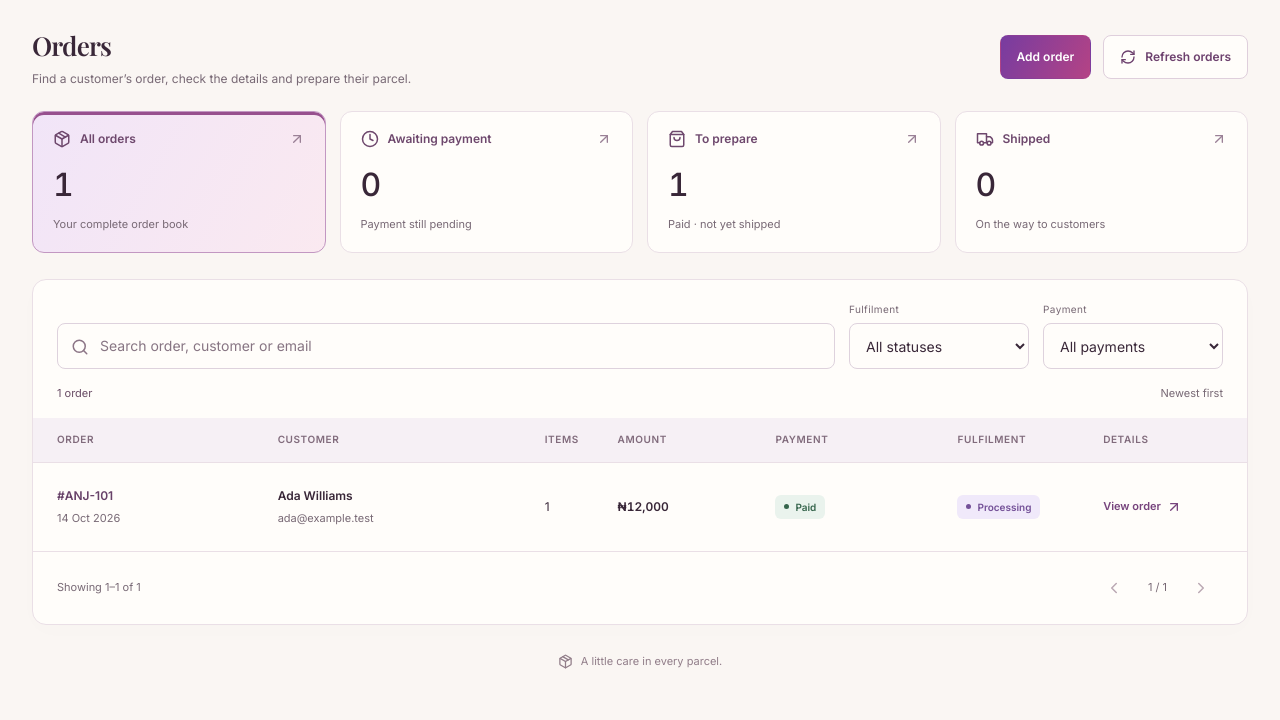
Test case: drawer traps keyboard focus, makes background inert and restores it on close
(page scrolled)
Click the button with aria-label "View order ANJ-101" at (1142, 507), box [1103,485,1182,529]
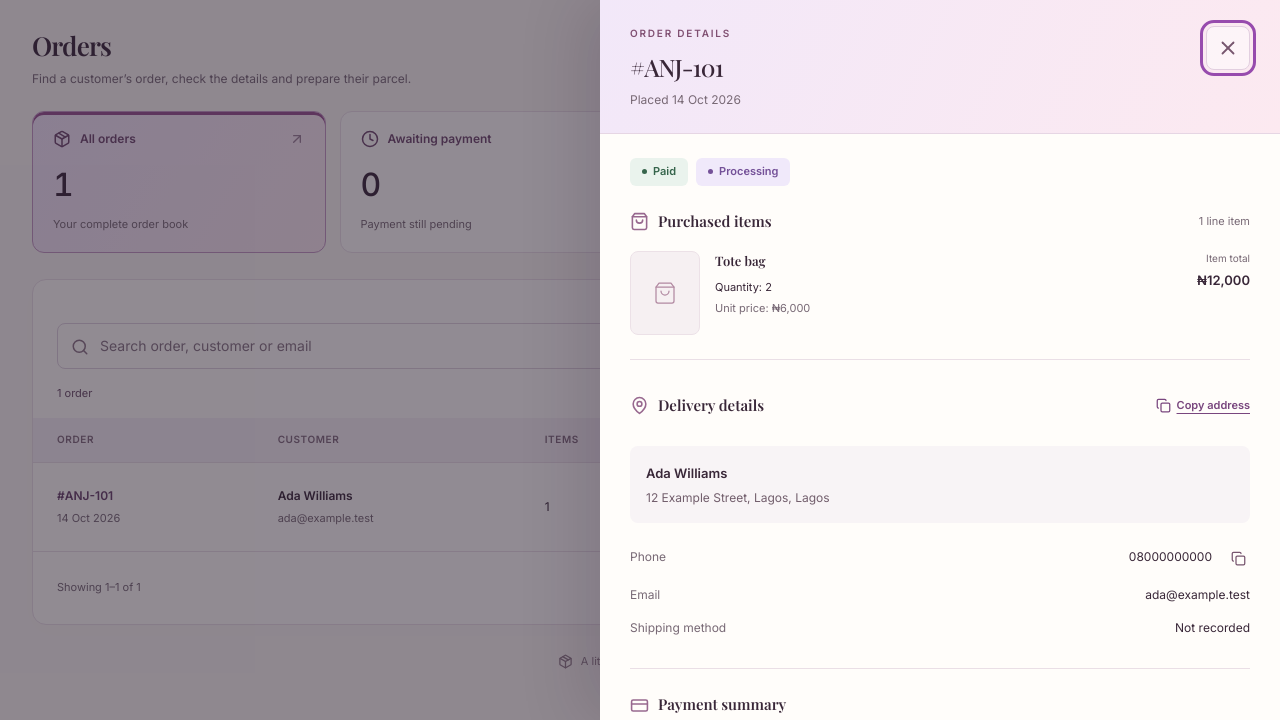
Press Tab
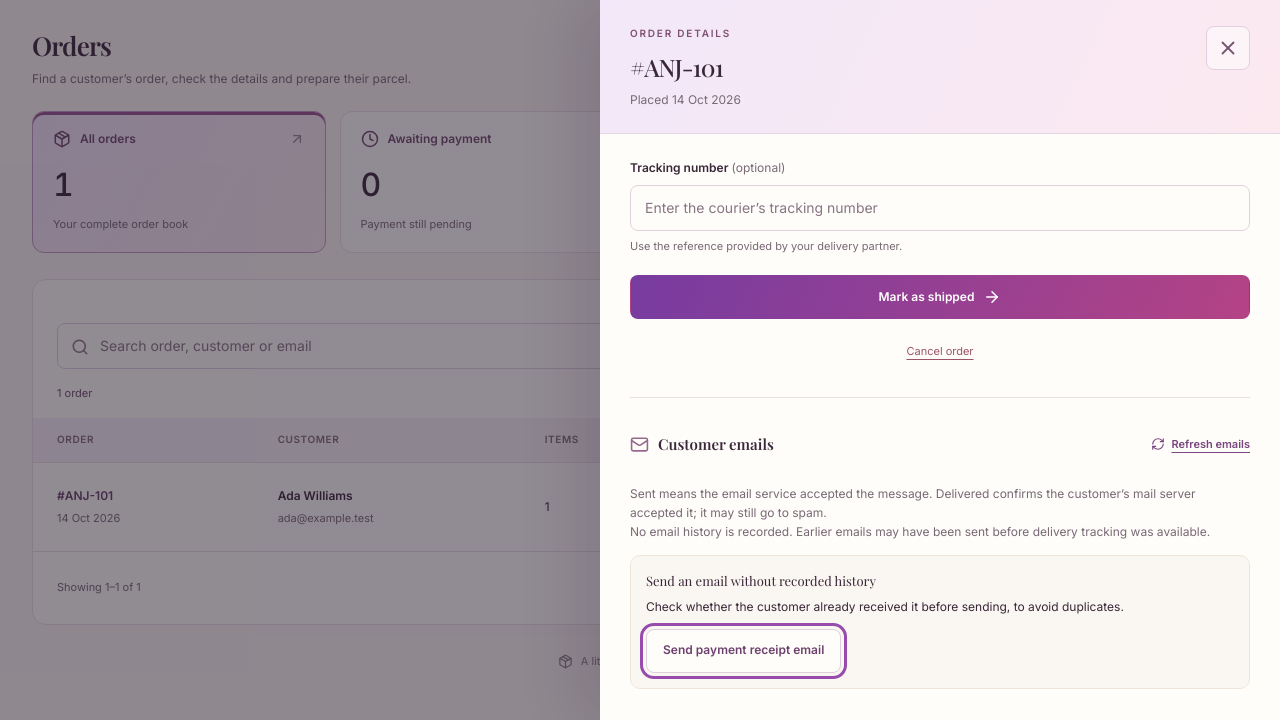
Press Tab
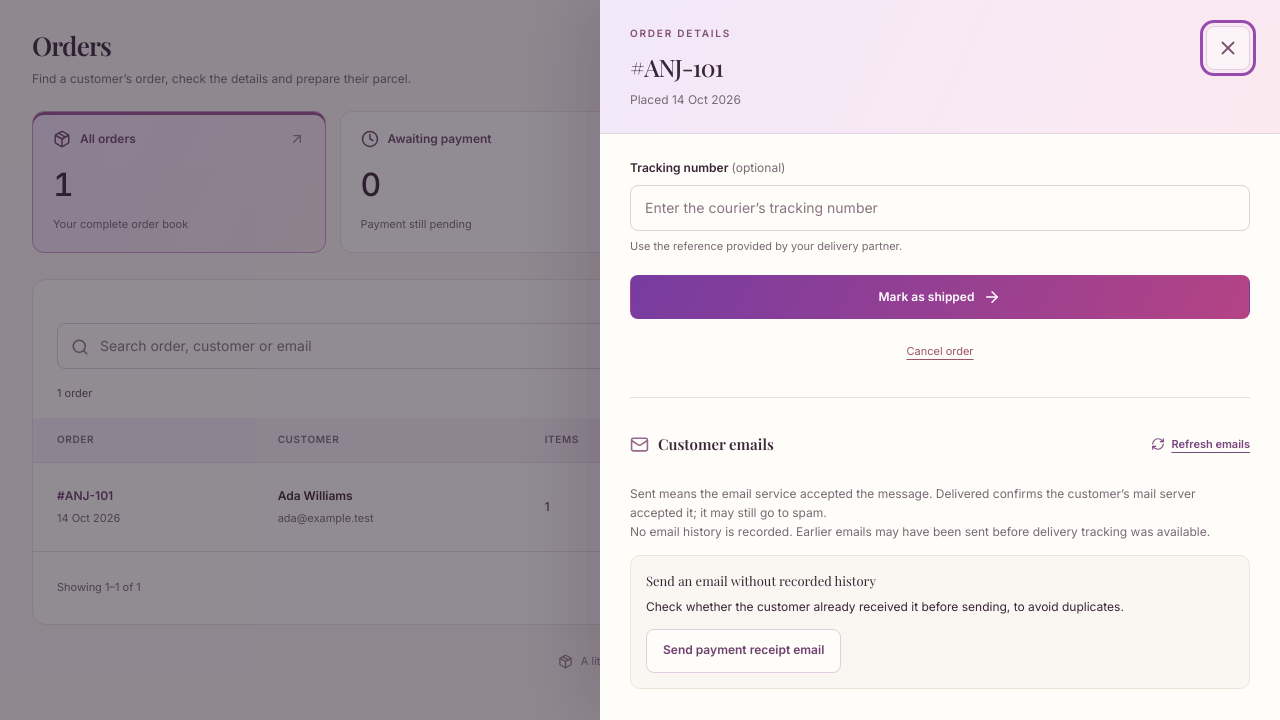
Press Escape
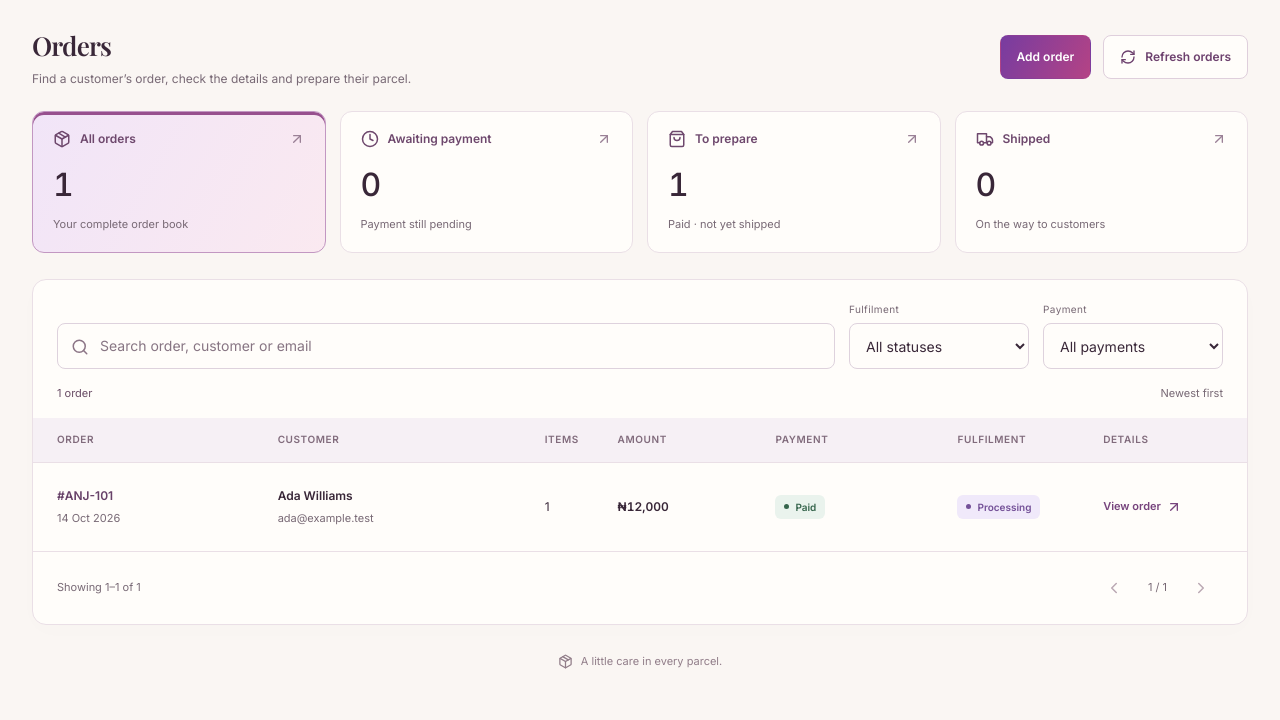
Now the dialog is gone
